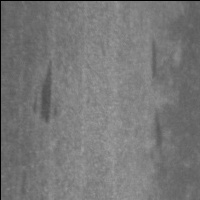inclusion: (35, 54, 60, 130), (148, 102, 171, 171), (144, 33, 164, 85)
